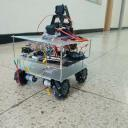cart: (11, 35, 92, 100)
